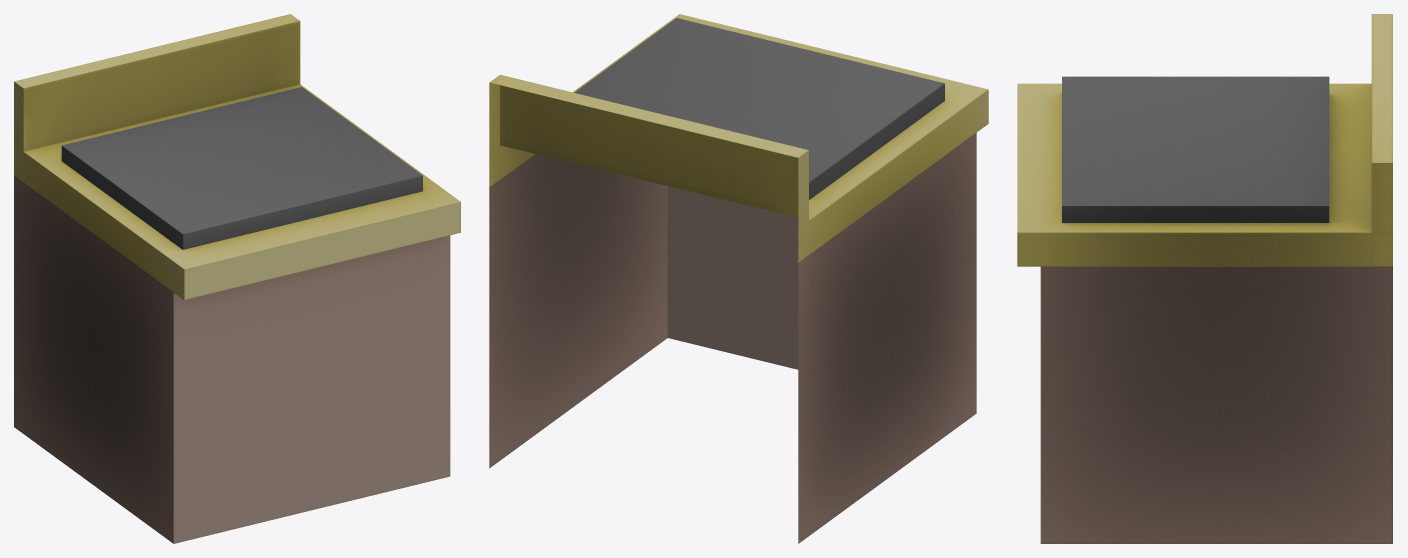
File: Boss Counter with stove.fbx
3 renders of one model, left to right at view 1: azimuth 30°, elevation 25°; view 2: azimuth 150°, elevation 25°; view 3: azimuth 270°, elevation 25°, orthographic. The views are drawn at different scales.
Visible parts, largest first — view 1: Counter_with_stove; view 2: Counter_with_stove; view 3: Counter_with_stove.
Part boxes in pixels (box(x1,y1,x2,y2)): Counter_with_stove: box(14, 14, 460, 543); Counter_with_stove: box(489, 14, 988, 543); Counter_with_stove: box(1017, 14, 1393, 543).
Bounding box in the file's own units: 41.93 × 50.05 × 44.8.
Materials: 1 (1 with a texture image).
